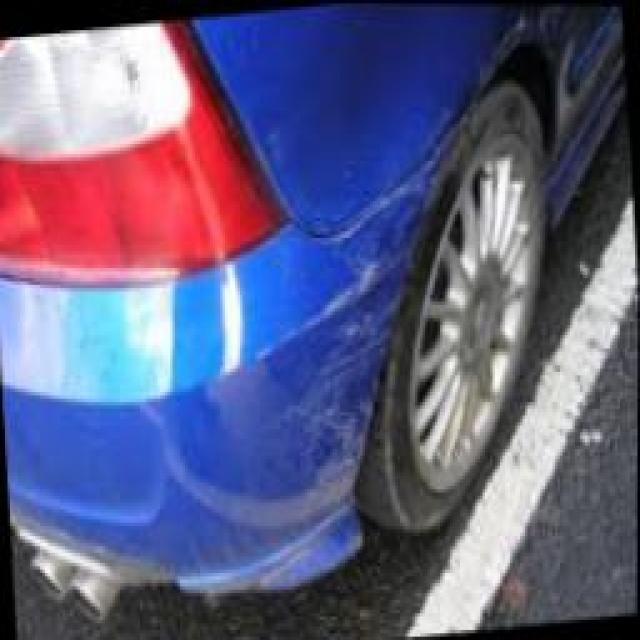Bumper: (233, 132, 451, 575)
